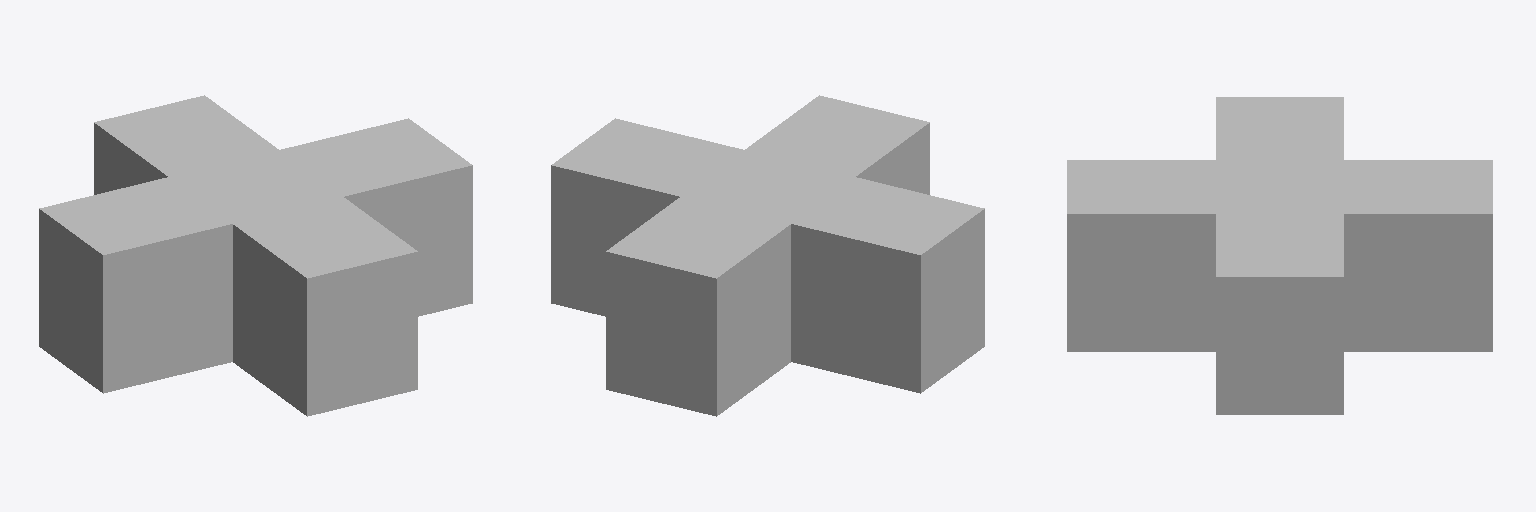
The model's file is Cross_cube_cap_ext_preprocessed.obj.
3 renders of one model, left to right at view 1: azimuth 30°, elevation 25°; view 2: azimuth 150°, elevation 25°; view 3: azimuth 270°, elevation 25°, orthographic.
Bounding box in the file's own units: 0.056 × 0.02 × 0.056.